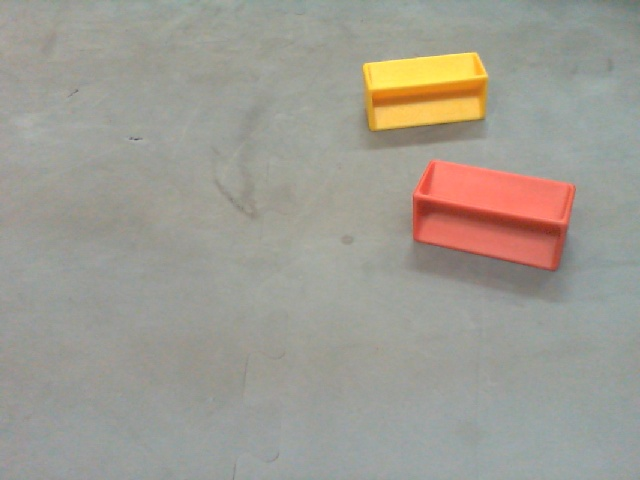RedSample: (411, 159, 579, 275)
YellowSample: (363, 52, 487, 134)
